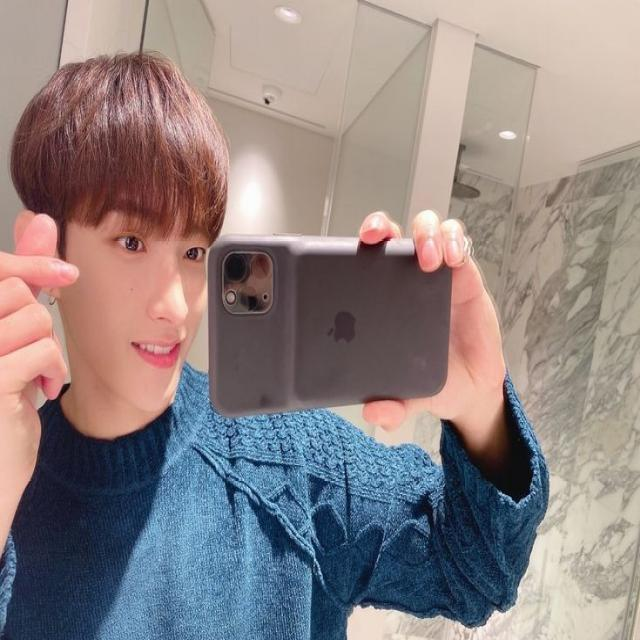phone: (204, 231, 454, 418)
